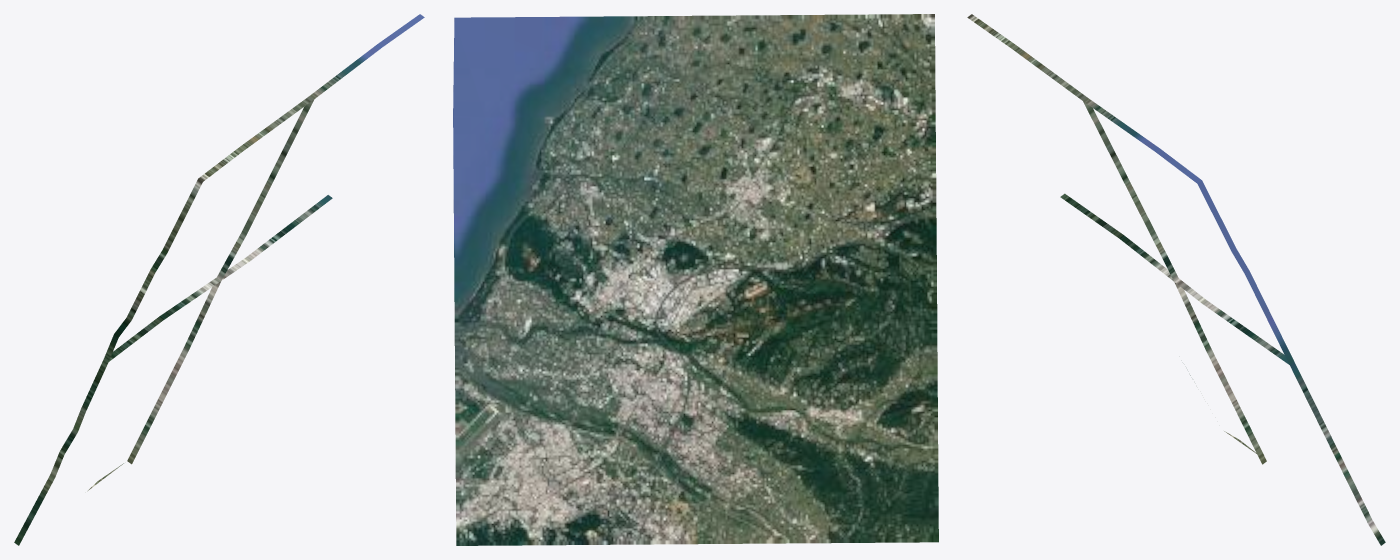
The picture shows the model from 3 angles, left to right: view 1: azimuth 30°, elevation 25°; view 2: azimuth 150°, elevation 25°; view 3: azimuth 270°, elevation 25°; orthographic projection. The views are drawn at different scales.
Size of the model in its own units: 19748 by 17919 by 16479.
1 material, 1 textured.
